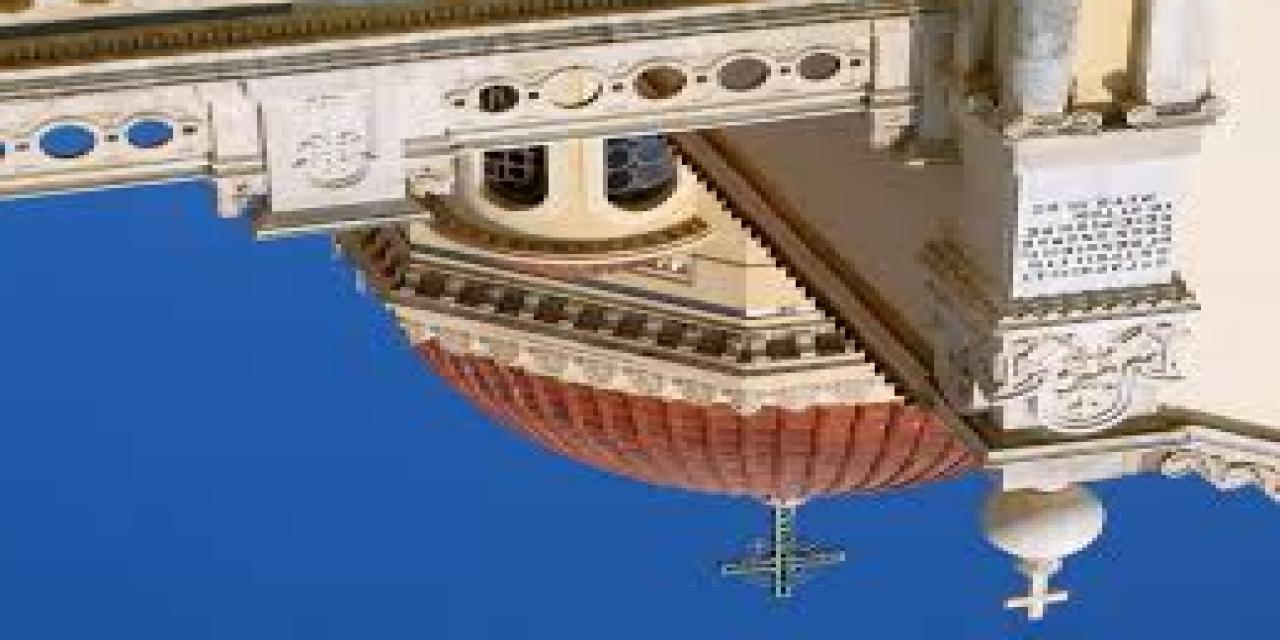Agios Minas: (1, 1, 1277, 621)
